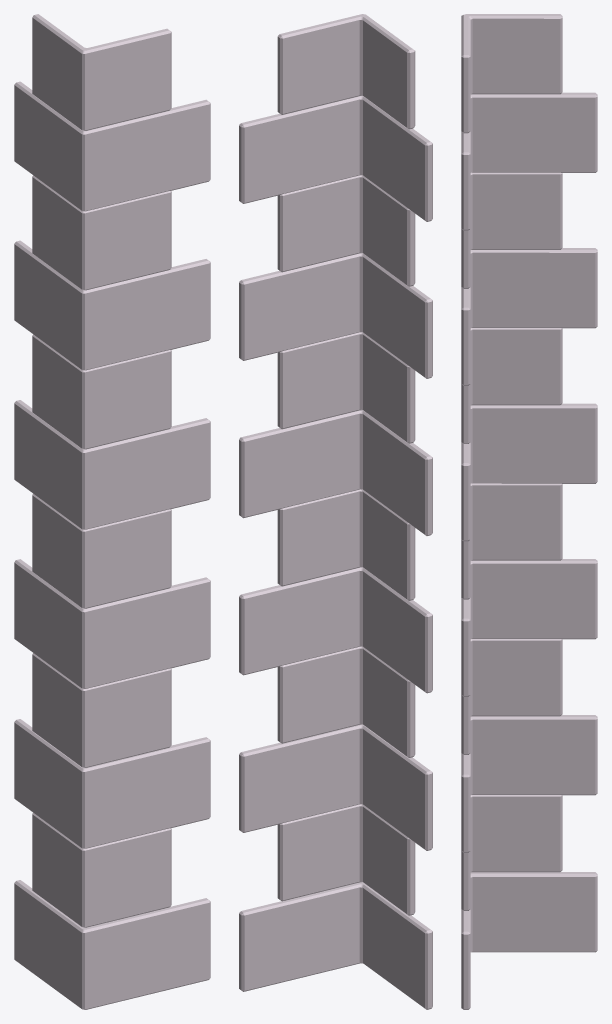
The model's file is fbx_oldbuilding_brick.fbx.
The picture shows the model from 3 angles, left to right: view 1: azimuth 30°, elevation 25°; view 2: azimuth 210°, elevation 25°; view 3: azimuth 270°, elevation 25°; orthographic projection. The views are drawn at different scales.
Visible parts, largest first — view 1: fbx_oldbuilding_brick; view 2: fbx_oldbuilding_brick; view 3: fbx_oldbuilding_brick.
Part boxes in pixels (bbox=[...]): fbx_oldbuilding_brick: bbox=[14, 14, 210, 1009]; fbx_oldbuilding_brick: bbox=[239, 14, 432, 1009]; fbx_oldbuilding_brick: bbox=[461, 14, 597, 1009].
Size of the model in its own units: 0.3362 by 2.39 by 0.3155.
1 material, 1 textured.
